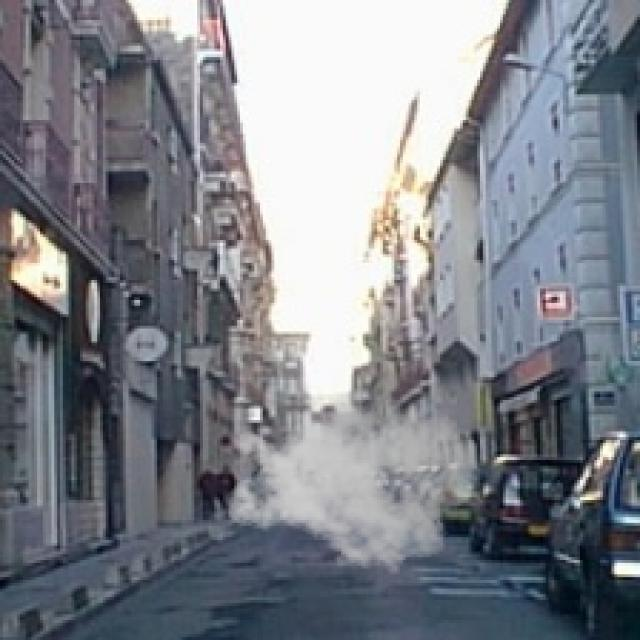Smoke: (223, 377, 483, 580)
